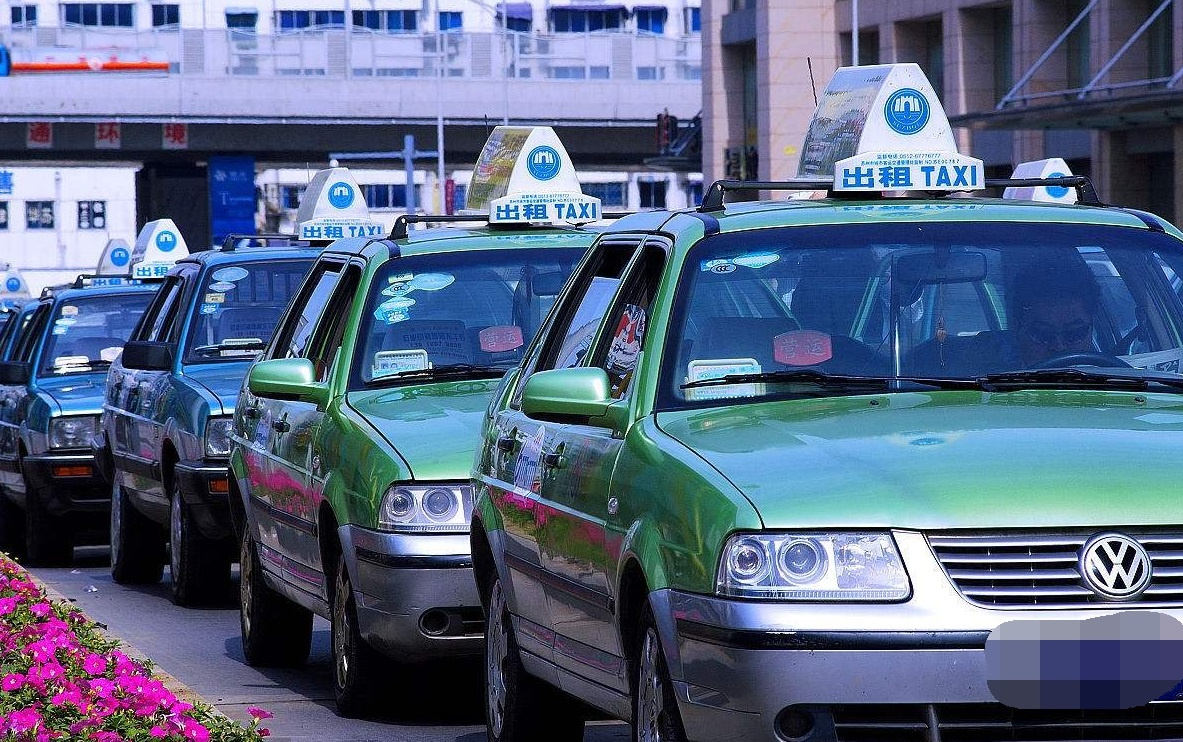taxi: (456, 181, 1177, 742)
